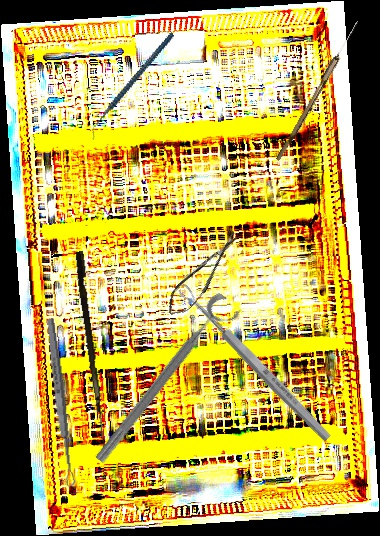Chopper: (66, 32, 199, 140)
Fixation Ring: (89, 290, 245, 475)
Hook Surgical: (71, 250, 116, 460)
Micro Scissor: (159, 227, 249, 322)
Surgical Spoon: (177, 282, 333, 444), (275, 19, 361, 163), (44, 317, 77, 488)
